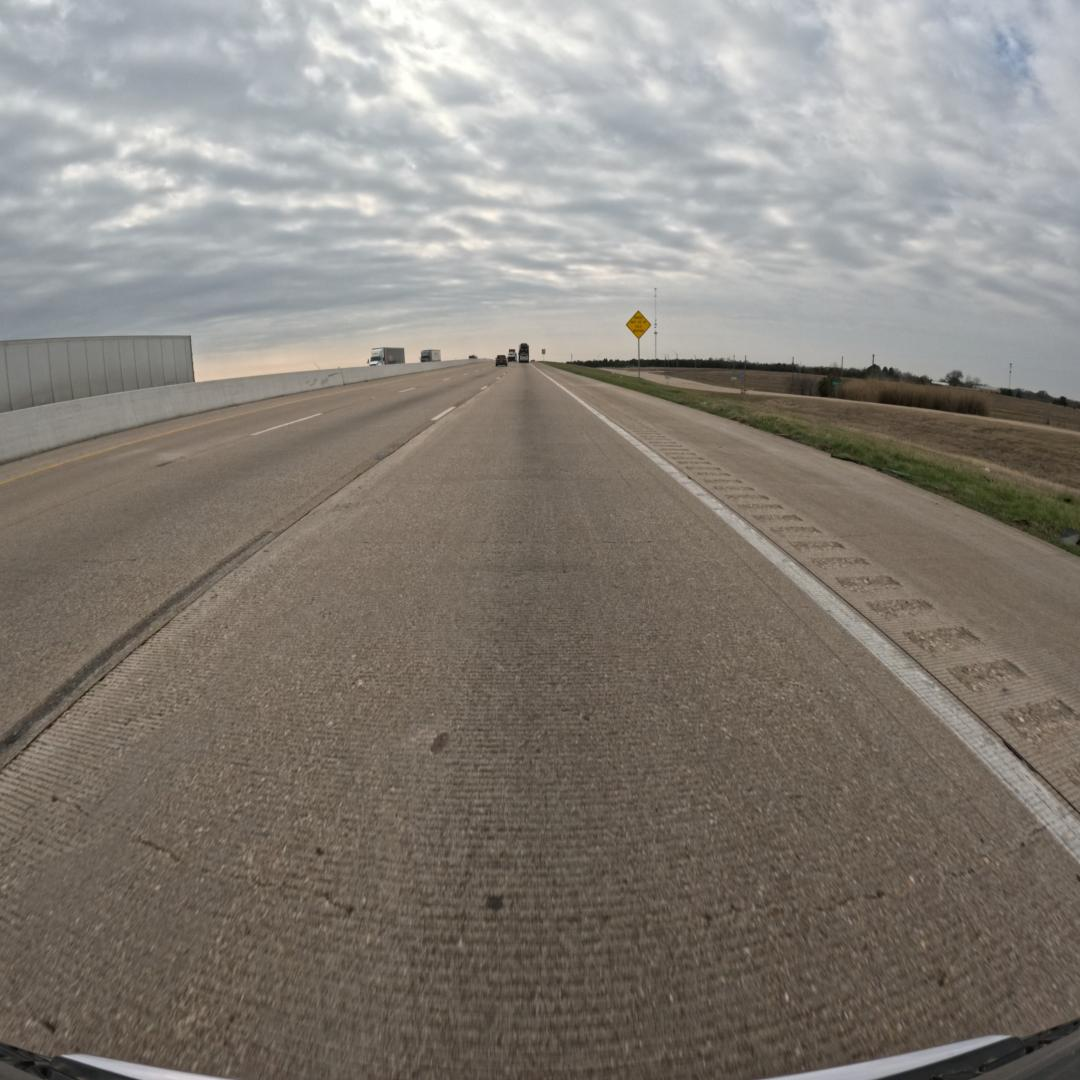lane0: (0, 369, 1080, 1076)
lane1: (0, 370, 497, 766)
